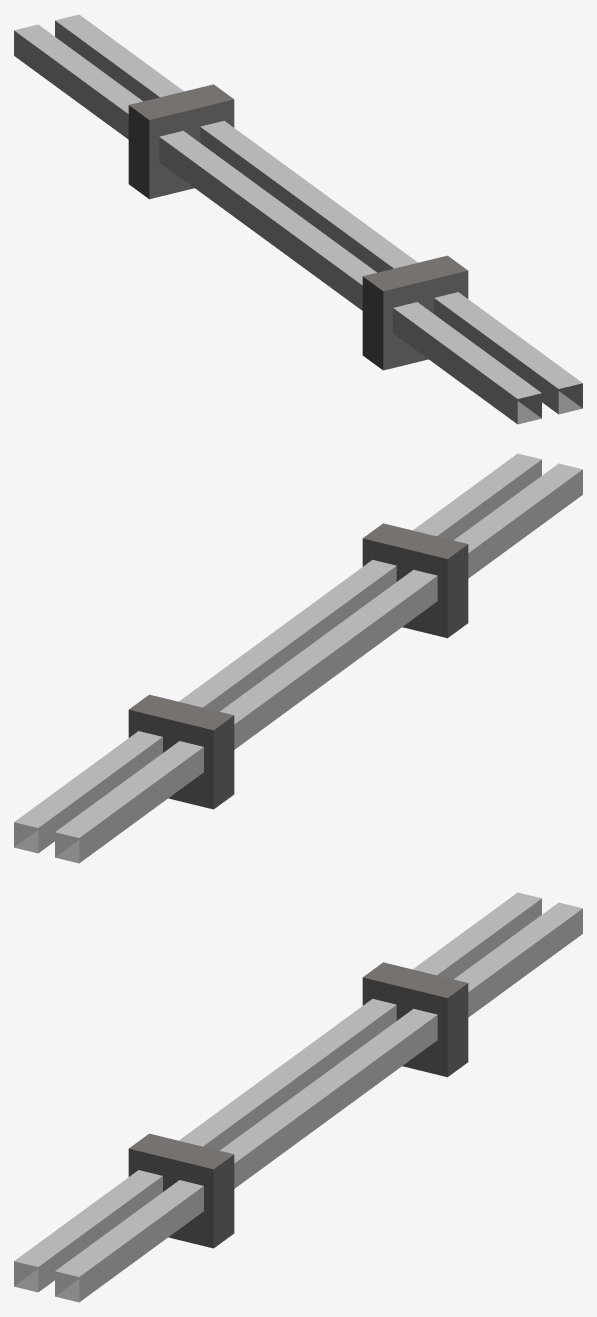
Rendered from SM_Prop_Pipes_01.fbx.
The picture shows the model from 3 angles, top to bottom: view 1: azimuth 30°, elevation 25°; view 2: azimuth 150°, elevation 25°; view 3: azimuth 330°, elevation 25°; orthographic projection.
Parts seen in each view (by area): view 1: SM_Prop_Pipes_01; view 2: SM_Prop_Pipes_01; view 3: SM_Prop_Pipes_01.
Part boxes in pixels (x1,y1,x2,y2): SM_Prop_Pipes_01: (14, 14, 582, 424); SM_Prop_Pipes_01: (14, 453, 582, 863); SM_Prop_Pipes_01: (14, 892, 582, 1302).
Size of the model in its own units: 0.974 by 0.867 by 10.
